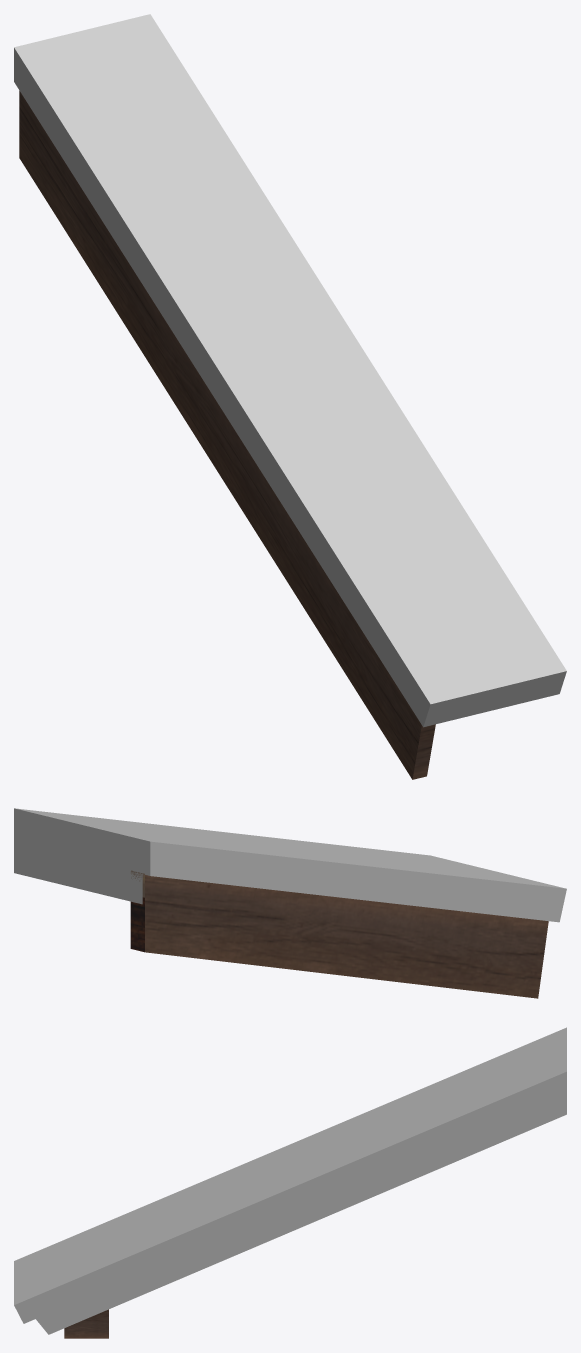
The model's file is kawara__x1t_a1end_r.fbx.
The picture shows the model from 3 angles, top to bottom: view 1: azimuth 30°, elevation 25°; view 2: azimuth 150°, elevation 25°; view 3: azimuth 270°, elevation 25°; orthographic projection. The views are drawn at different scales.
Parts seen in each view (by area): view 1: kawara__x1t_a1end_r; view 2: kawara__x1t_a1end_r; view 3: kawara__x1t_a1end_r.
Boxes of the visible parts, bbox=[...] form: kawara__x1t_a1end_r: bbox=[14, 14, 566, 779]; kawara__x1t_a1end_r: bbox=[14, 808, 566, 998]; kawara__x1t_a1end_r: bbox=[14, 1027, 566, 1338].
Size of the model in its own units: 30.3 by 94.69 by 160.
